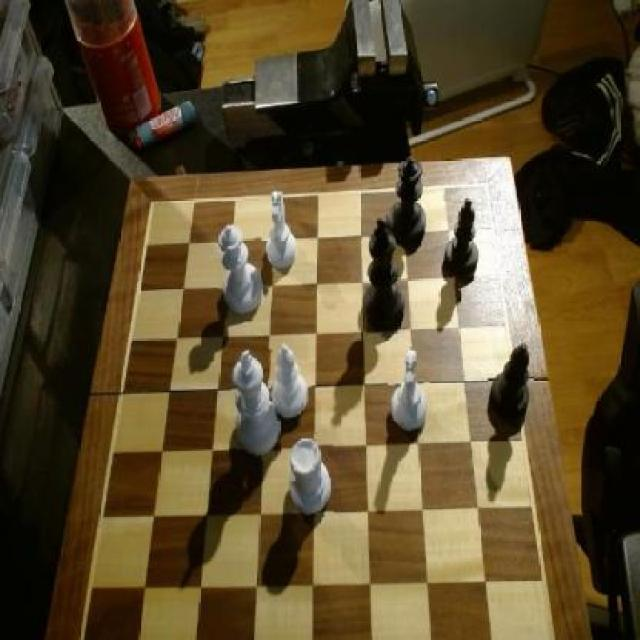bishop: (488, 342, 533, 432), (445, 195, 482, 283)
black-bishop: (362, 215, 409, 337)
black-pawn: (389, 155, 430, 251)
black-rook: (271, 340, 313, 422)
white-bishop: (229, 348, 285, 460)
white-king: (388, 348, 432, 435), (263, 189, 299, 272)
white-pawn: (217, 225, 265, 319)
white-queen: (286, 437, 334, 520)
